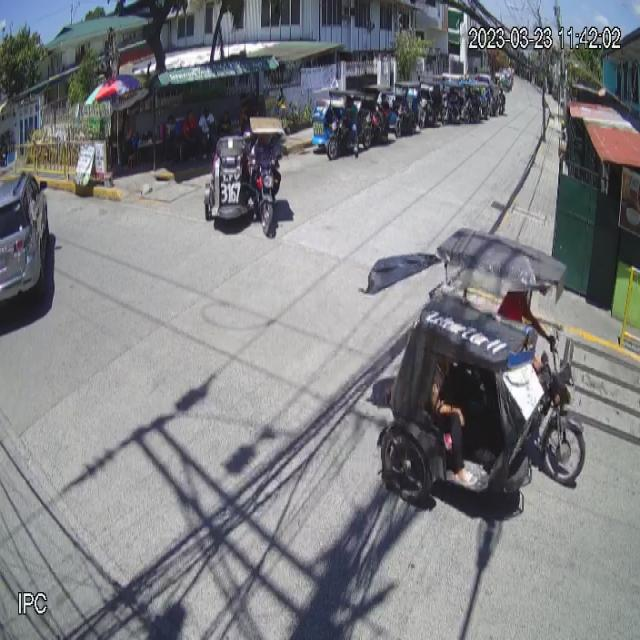Car: (0, 170, 50, 307)
Tricycle: (378, 226, 585, 509), (204, 116, 285, 238)
